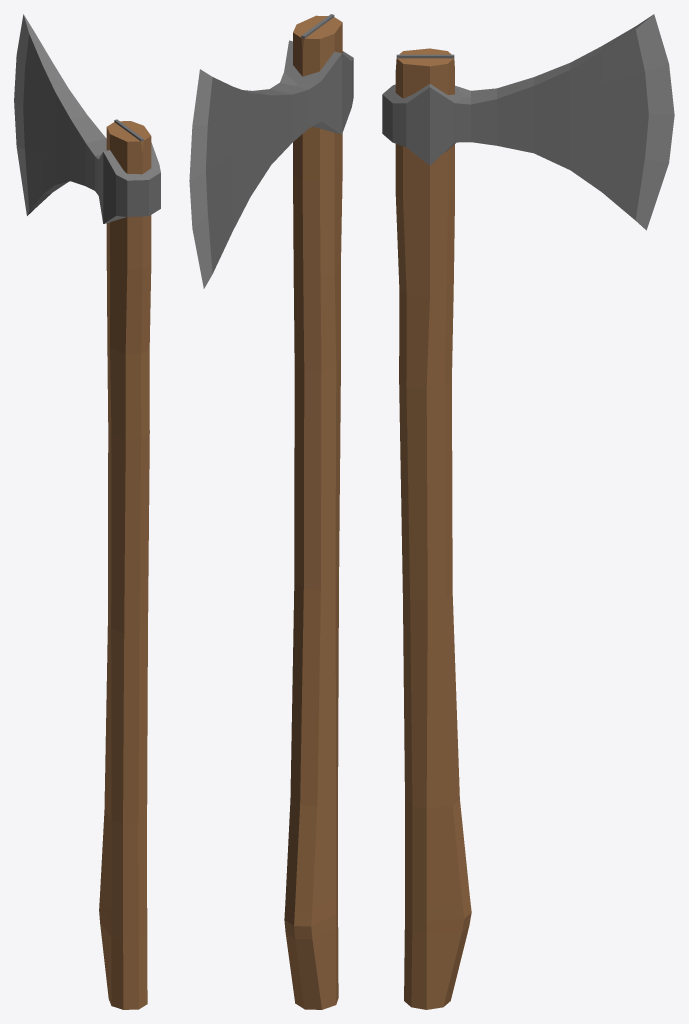
The model's file is battleAxe.fbx.
The picture shows the model from 3 angles, left to right: view 1: azimuth 30°, elevation 25°; view 2: azimuth 150°, elevation 25°; view 3: azimuth 270°, elevation 25°; orthographic projection. The views are drawn at different scales.
Visible parts, largest first — view 1: BattleAxe; view 2: BattleAxe; view 3: BattleAxe.
Part boxes in pixels (box(x1,y1,x2,y2)): BattleAxe: box(14, 14, 160, 1009); BattleAxe: box(189, 14, 353, 1009); BattleAxe: box(382, 14, 674, 1009).
Size of the model in its own units: 13.07 by 240 by 64.37.
